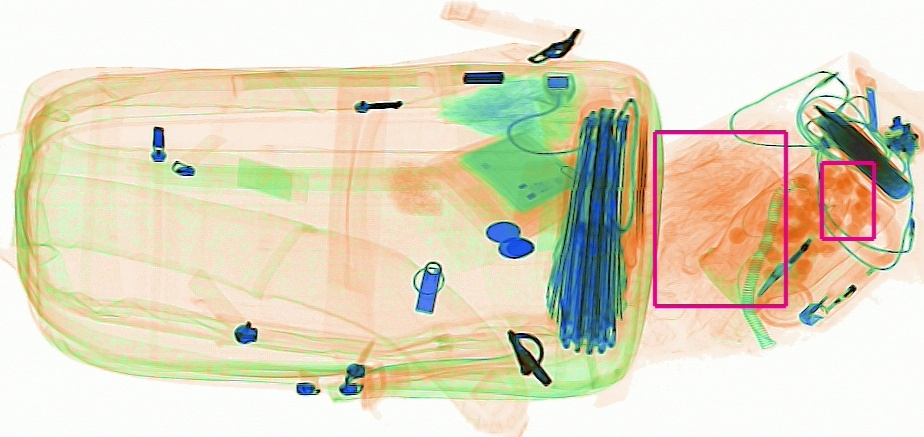lighter: (796, 237, 897, 330)
